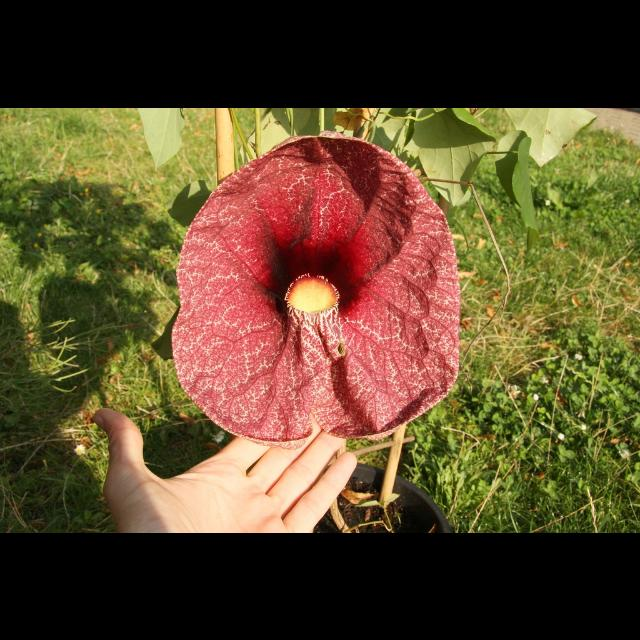Flower: (172, 132, 458, 448)
